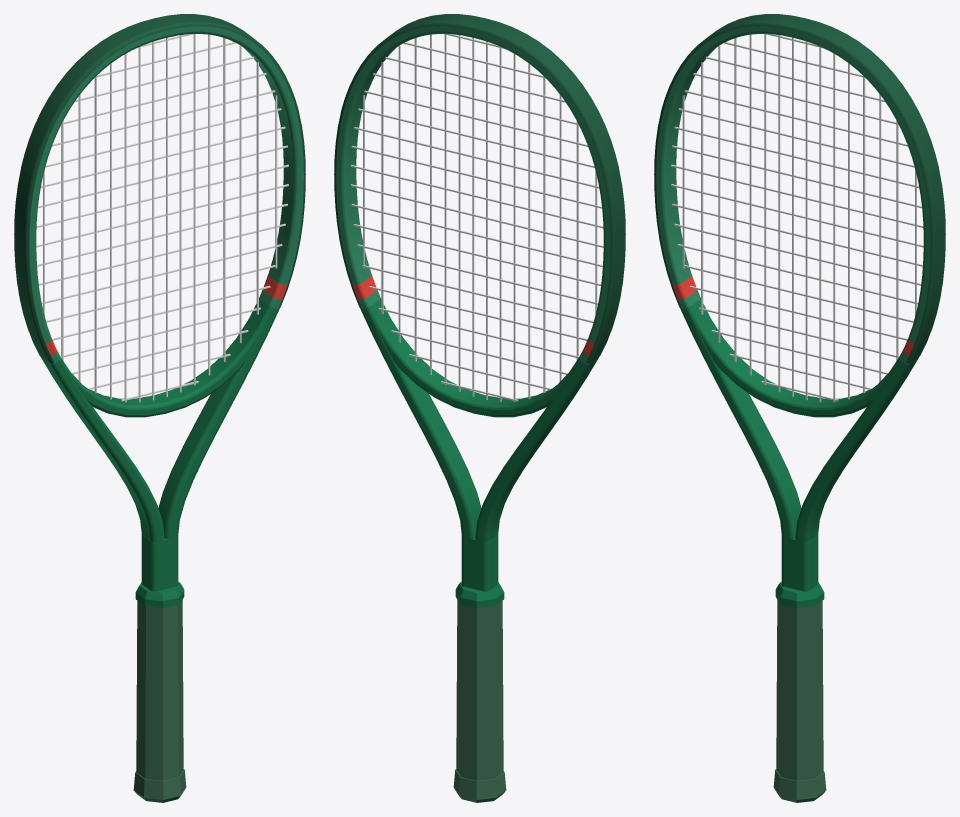
Rendered from wilson-blade-98-v10.glb.
3 views of the same model, side by side, from view 1: azimuth 30°, elevation 25°; view 2: azimuth 150°, elevation 25°; view 3: azimuth 330°, elevation 25° (orthographic).
Parts seen in each view (by area): view 1: frame, strings_mains, strings_crosses, grip, bumper, grommets, butt_cap, collar; view 2: frame, strings_mains, strings_crosses, grip, bumper, grommets, butt_cap, collar; view 3: frame, strings_mains, strings_crosses, grip, bumper, grommets, butt_cap, collar.
Part boxes in pixels (box(x1,y1,x2,y2)): frame: box(29, 26, 303, 591); strings_mains: box(43, 34, 277, 402); strings_crosses: box(36, 34, 288, 401); grip: box(136, 600, 183, 780); bumper: box(21, 14, 298, 177); grommets: box(14, 112, 305, 363); butt_cap: box(133, 769, 186, 802); collar: box(135, 582, 184, 607); frame: box(336, 26, 610, 591); strings_mains: box(363, 34, 597, 401); strings_crosses: box(350, 34, 603, 401); grip: box(456, 600, 503, 780); bumper: box(341, 14, 618, 177); grommets: box(334, 112, 625, 363); butt_cap: box(453, 769, 506, 802); collar: box(455, 582, 504, 607); frame: box(656, 26, 930, 591); strings_mains: box(682, 34, 916, 402); strings_crosses: box(671, 34, 923, 401); grip: box(776, 600, 823, 780); bumper: box(661, 14, 938, 177); grommets: box(654, 112, 945, 363); butt_cap: box(773, 769, 826, 802); collar: box(775, 582, 824, 607).
Bounding box in the file's own units: 0.2616 × 0.6861 × 0.0396.
